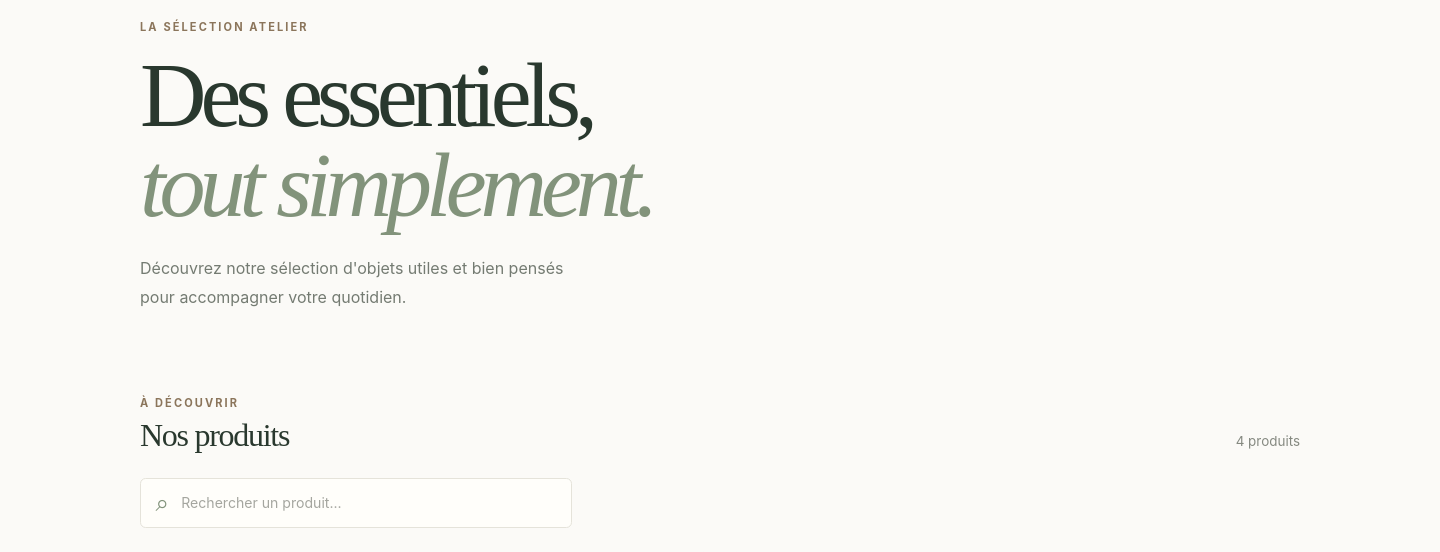
Test: ProductListComponent › shows an empty state when the search has no results
The width and height of the screenshot is (1440, 552).
Type "inexistant" into the search field labelled "⌕" at x=368, y=503, box [179,493,557,512]
(page scrolled)
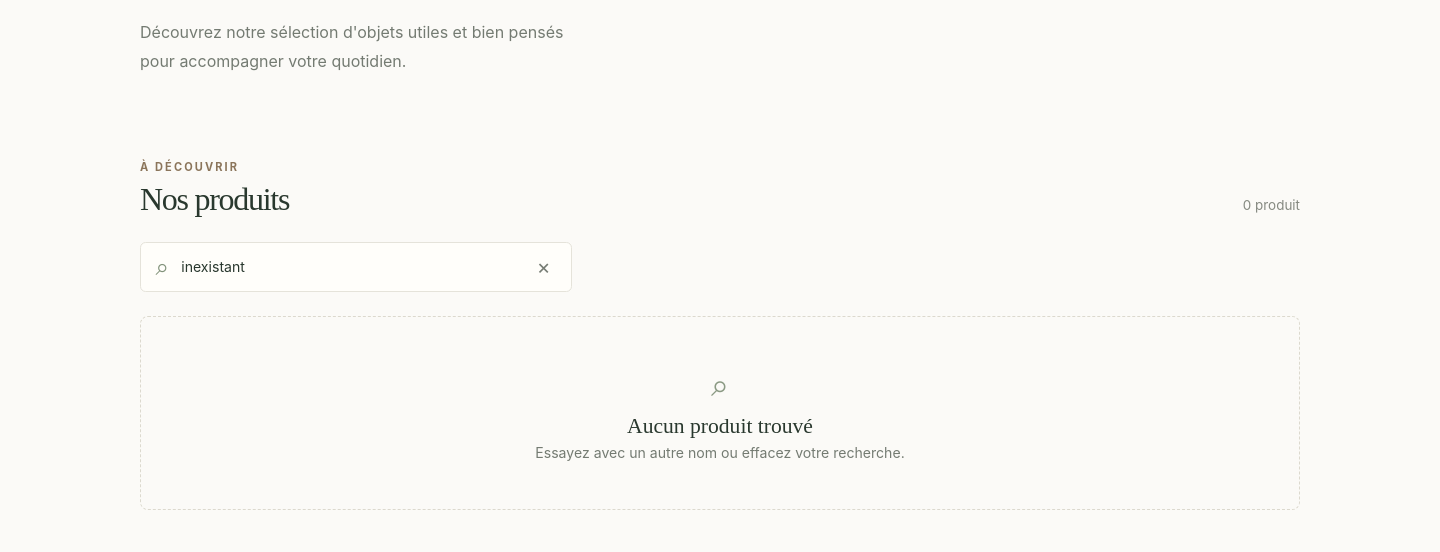
Check: the message "⌕ Aucun produit trouvé Essayez avec un autre nom ou effacez votre recherche." is shown, box [140,316,1300,510]
Check: the text "Aucun produit trouvé" is shown, box [627,414,813,438]
